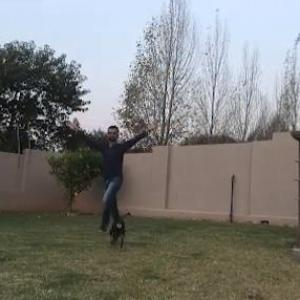takeoff: (91, 115, 185, 232)
